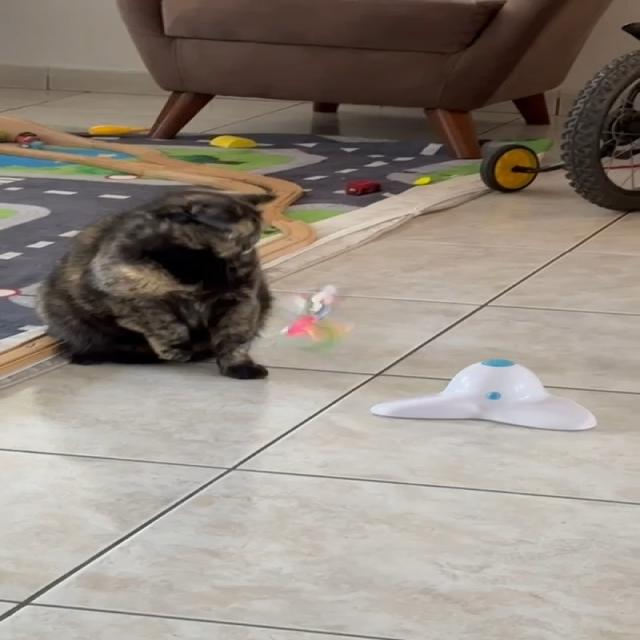authorized: (35, 184, 277, 380)
